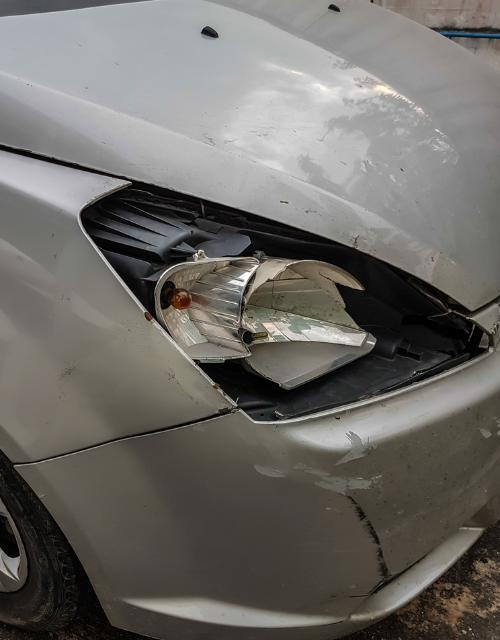Light: (72, 164, 500, 417)
